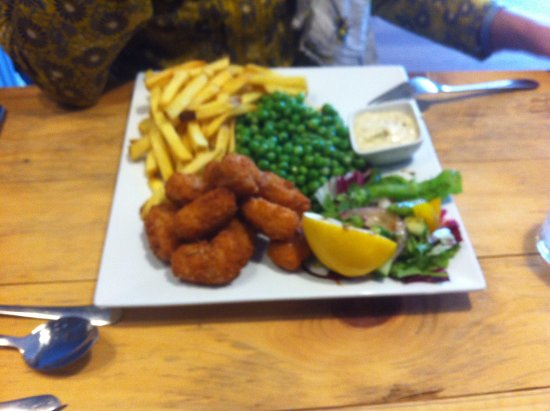boiled peas: (243, 94, 346, 183)
chopped lettuce: (349, 175, 449, 254)
